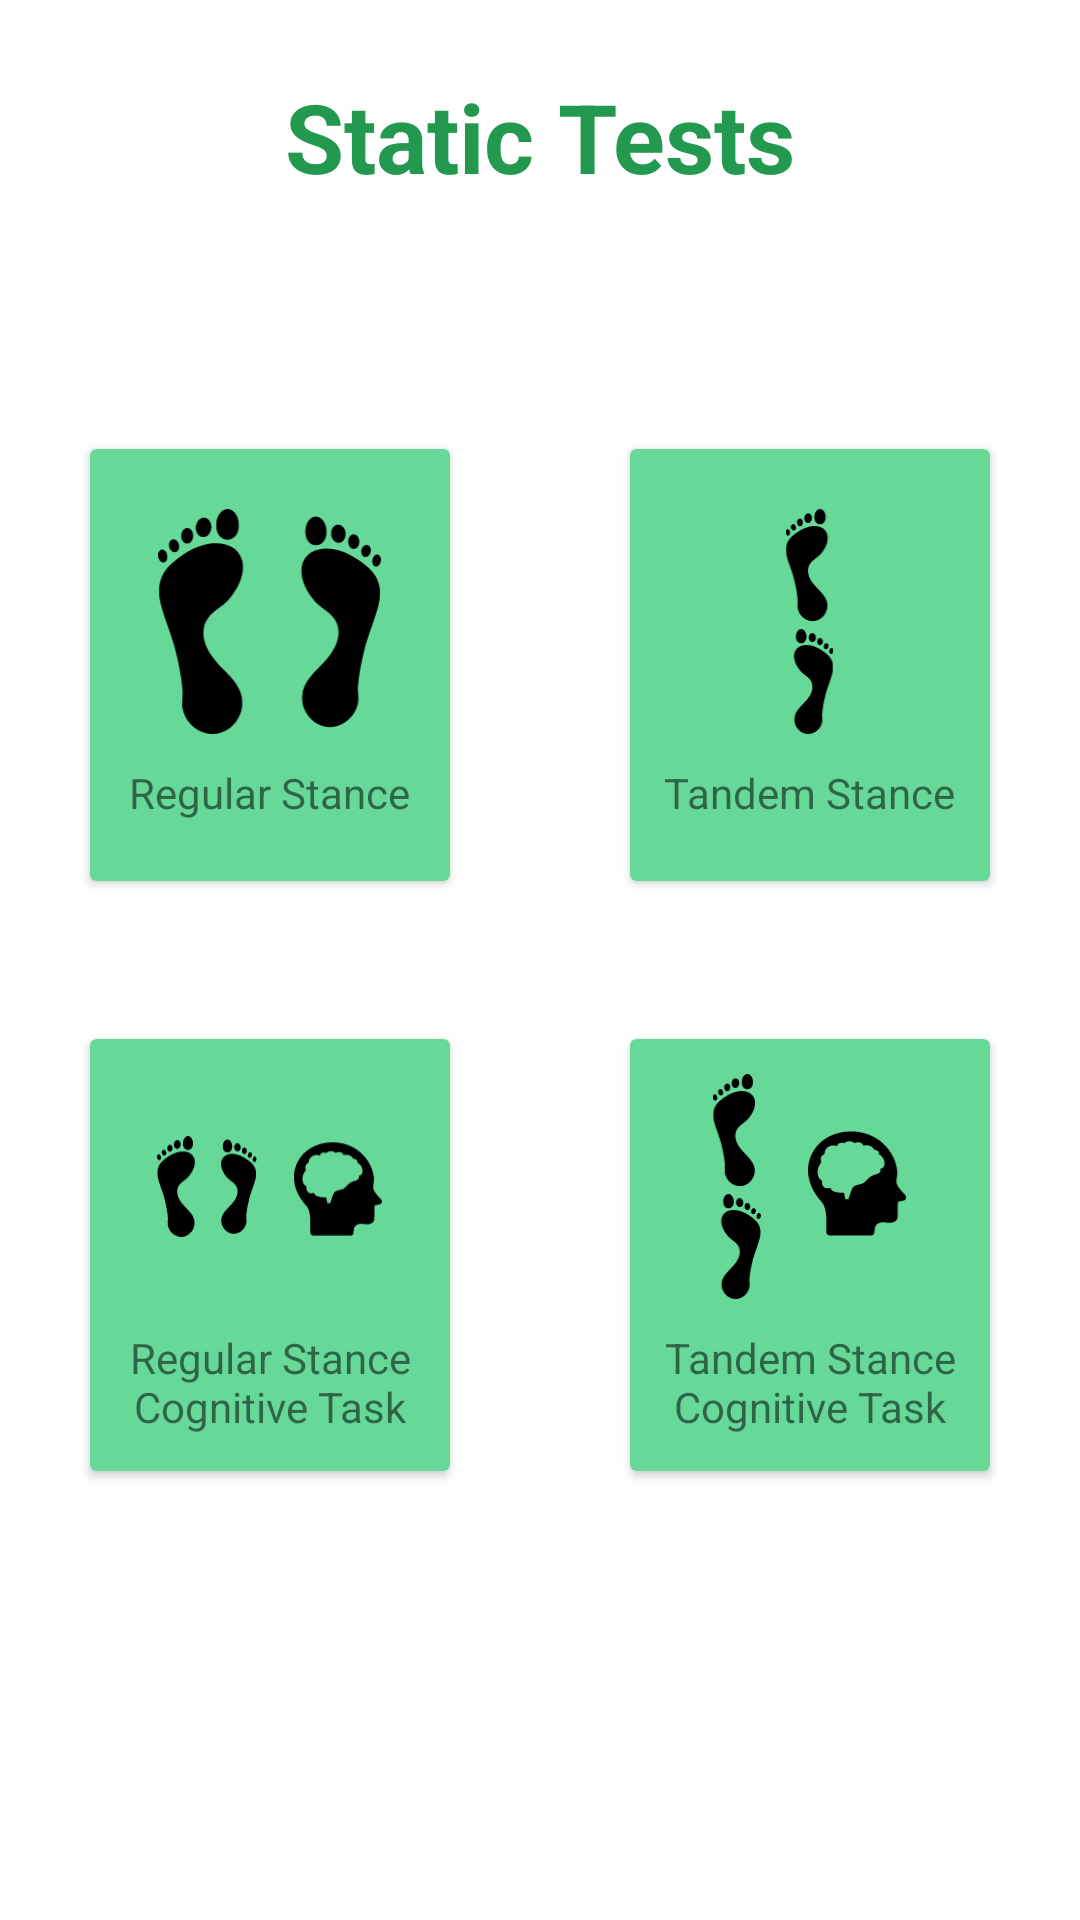

Named icons in this screenshot (1080px×1920px) and their bounding boxes, (x1, y1, x2, y2):
static: (158, 509, 381, 734)
static dual: (157, 1136, 382, 1237)
